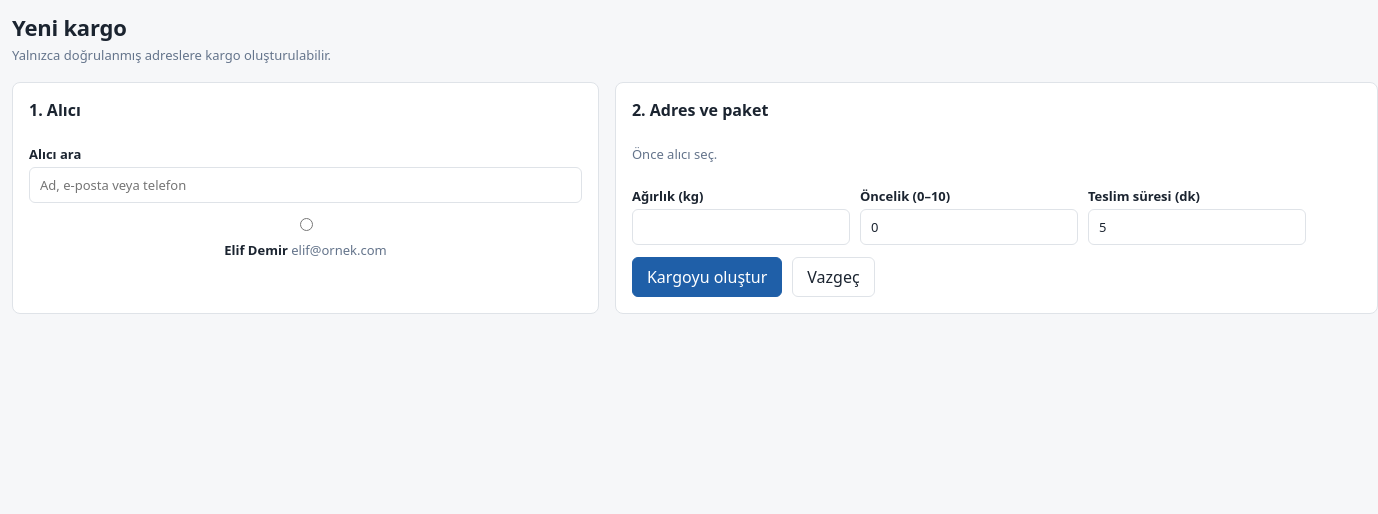
Test: NewShipmentPage › should show the server rule when the address lost its approval meanwhile
This screenshot has width=1378, height=514.
Click the radio button labelled "Elif Demir elif@ornek.com": {"x": 306, "y": 224} [300,218,313,231]
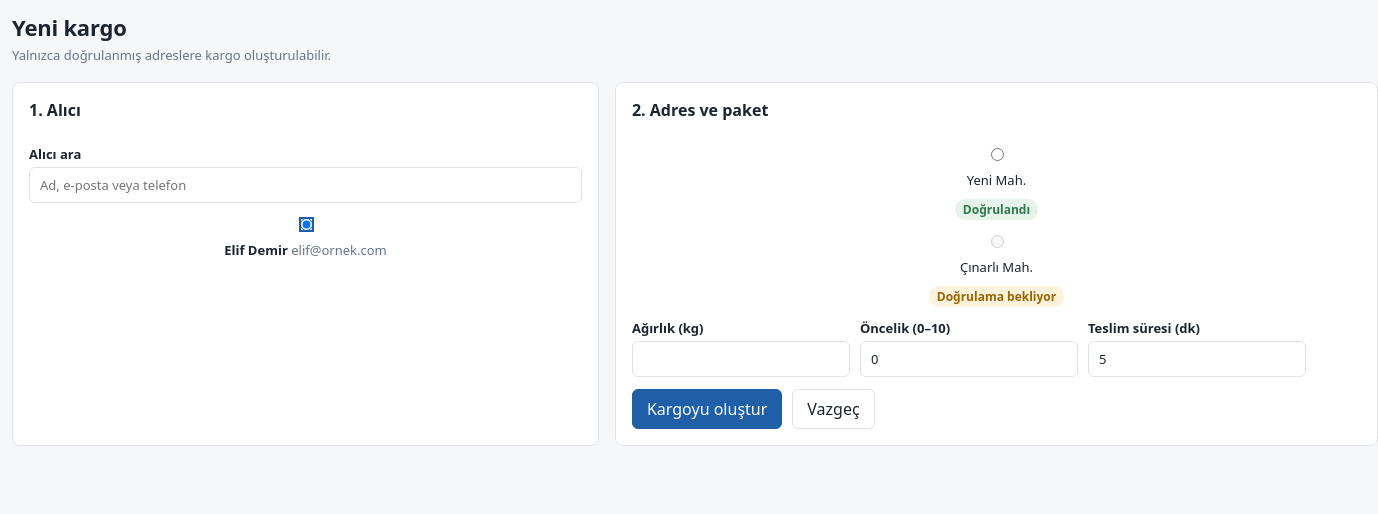
Click the radio button labelled "Yeni Mah. Doğrulandı": {"x": 998, "y": 154} [991,148,1004,161]
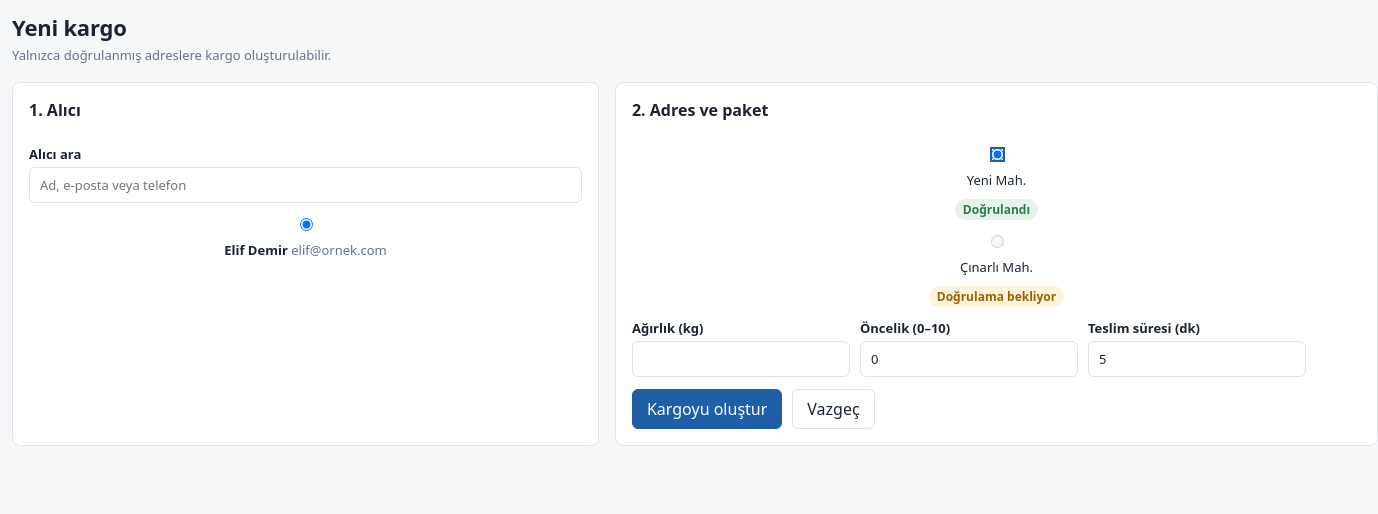
In the number field labelled "Ağırlık (kg)": {"x": 741, "y": 359} [632,341,850,377], type "1"
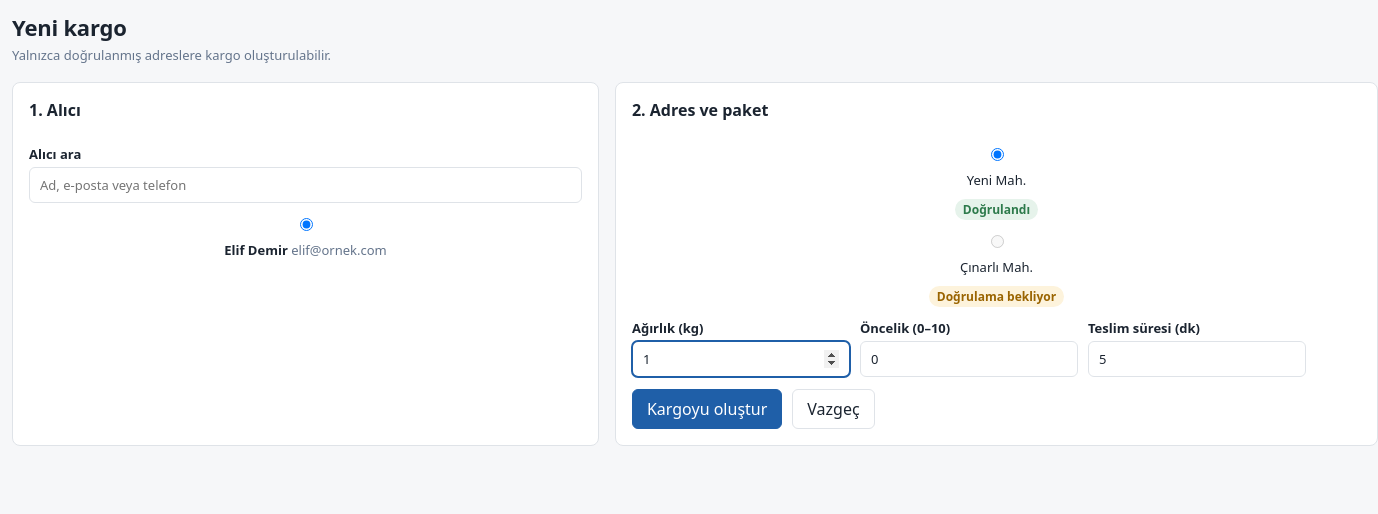
Click the button "Kargoyu oluştur": {"x": 707, "y": 409} [632,389,782,429]
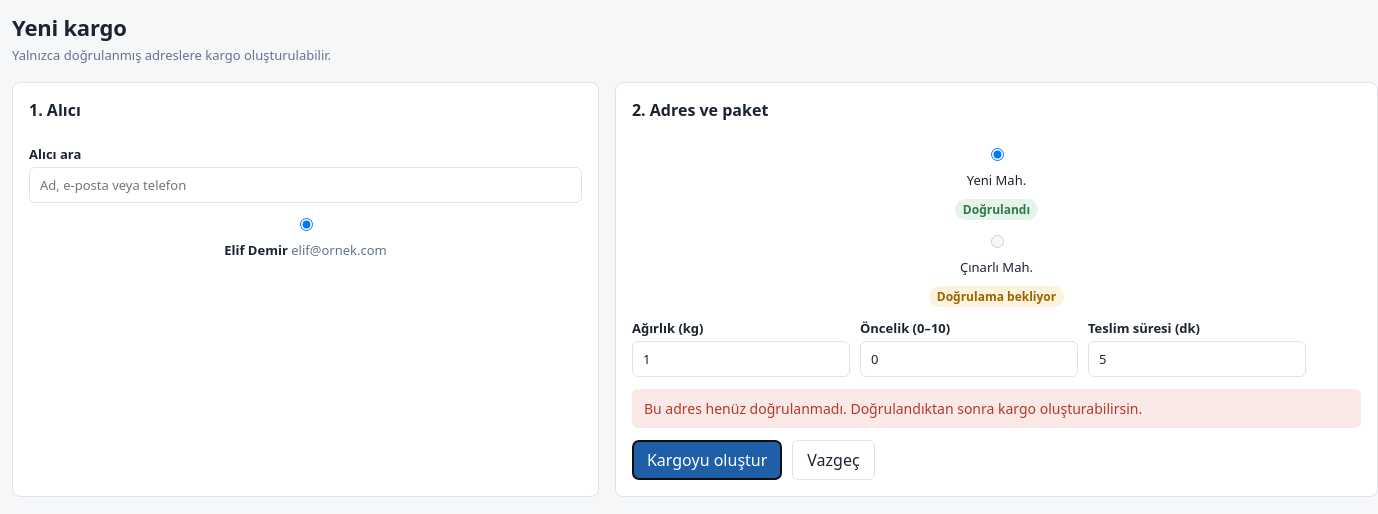
Result: the message shows "Bu adres henüz doğrulanmadı" at [644,399,1142,418]
